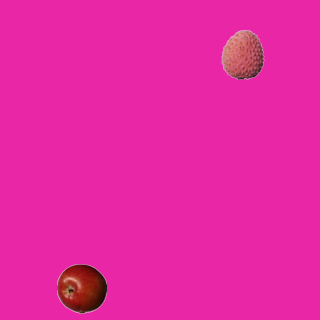Apple Braeburn: (56, 263, 106, 313)
Lychee: (217, 29, 267, 79)
